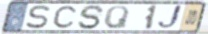1: (145, 4, 160, 31)
C: (52, 5, 78, 29)
J: (156, 4, 184, 31)
Q: (103, 5, 131, 30)
S: (76, 4, 105, 31), (24, 5, 52, 30)
